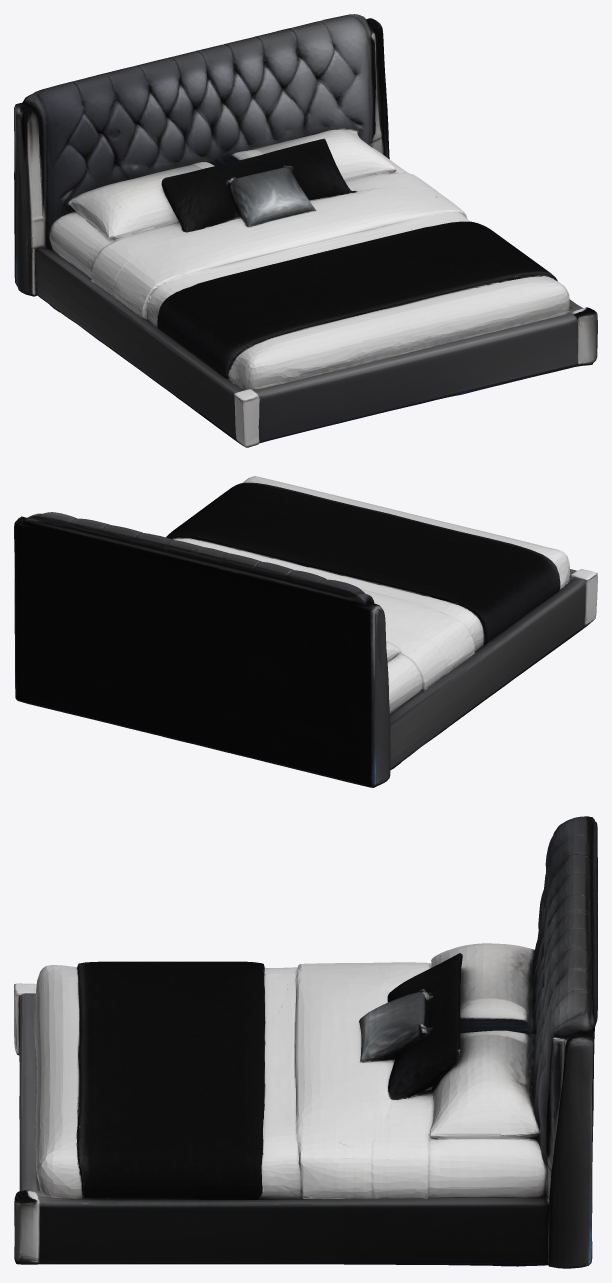
3 views of the same model, one above another, from view 1: azimuth 30°, elevation 25°; view 2: azimuth 150°, elevation 25°; view 3: azimuth 270°, elevation 25° (orthographic). The views are drawn at different scales.
Parts seen in each view (by area): view 1: world; view 2: world; view 3: world.
Part boxes in pixels (<box>): world: <box>14,14,597,447</box>; world: <box>14,476,597,787</box>; world: <box>14,816,597,1268</box>.
Size of the model in its own units: 0.9234 by 0.4774 by 1.
Materials: 1 (1 with a texture image).
